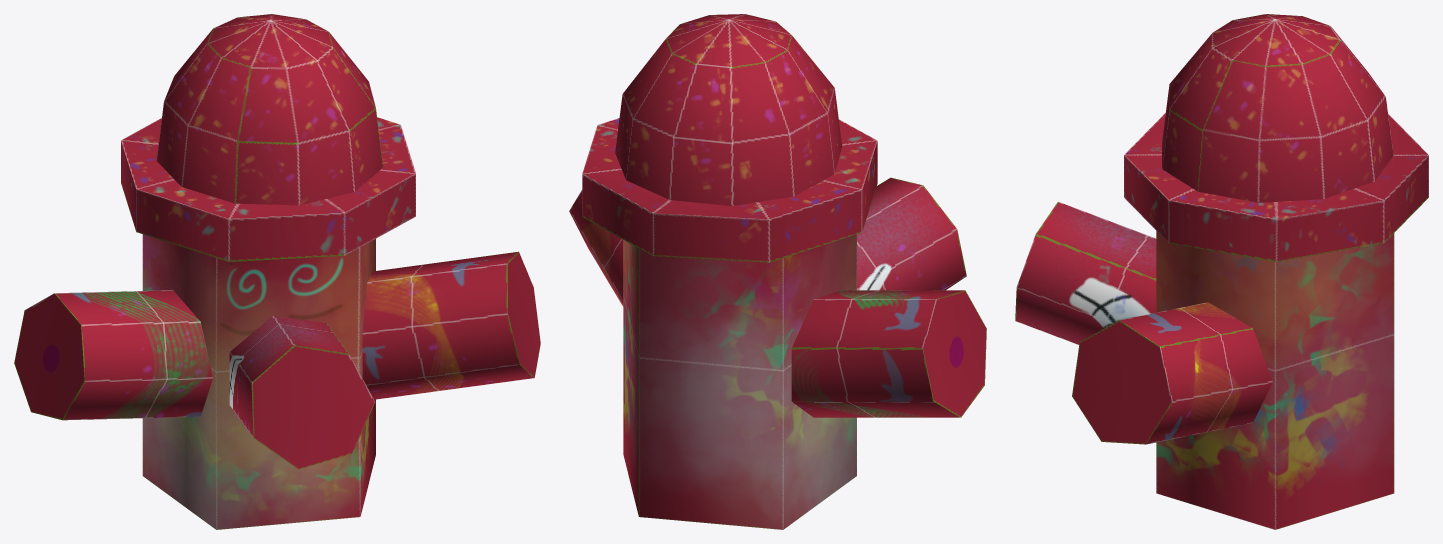
Rendered from Assets_Firetamer.fbx.
The picture shows the model from 3 angles, left to right: view 1: azimuth 30°, elevation 25°; view 2: azimuth 150°, elevation 25°; view 3: azimuth 270°, elevation 25°; orthographic projection.
Visible parts, largest first — view 1: Sphere001; view 2: Sphere001; view 3: Sphere001.
Boxes of the visible parts, x1,y1,x2,y2 form: Sphere001: [14, 14, 540, 529]; Sphere001: [569, 14, 986, 529]; Sphere001: [1015, 14, 1428, 529].
Size of the model in its own units: 101 by 99.18 by 80.95.
1 material, 1 textured.
